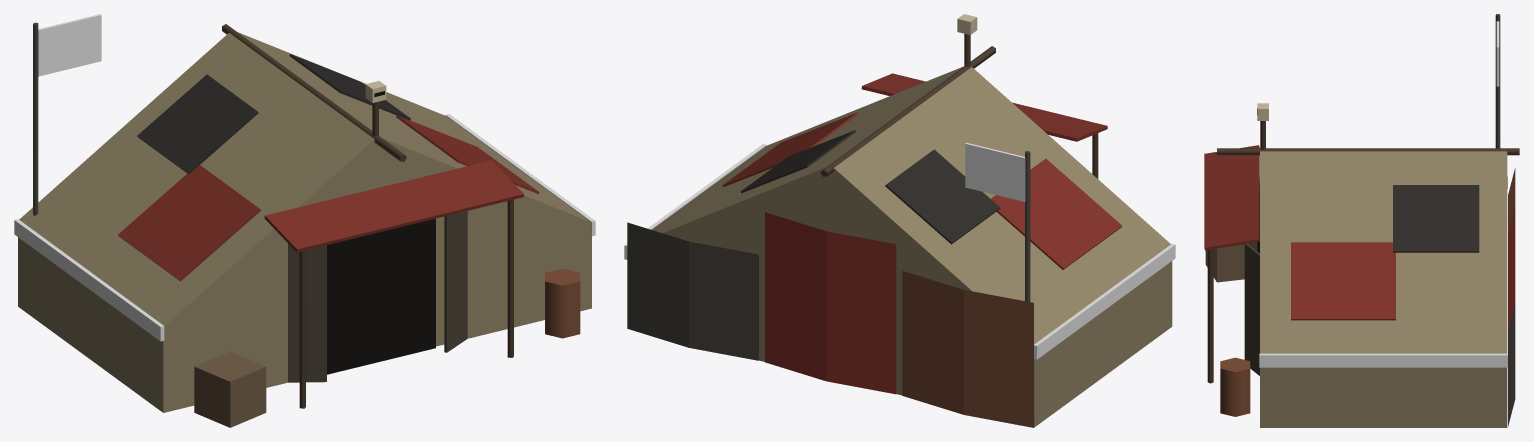
3 renders of one model, left to right at view 1: azimuth 30°, elevation 25°; view 2: azimuth 150°, elevation 25°; view 3: azimuth 270°, elevation 25°, orthographic. The views are drawn at different scales.
Parts seen in each view (by area): view 1: raider_building_tent; view 2: raider_building_tent; view 3: raider_building_tent.
Part boxes in pixels (x1,y1,x2,y2): raider_building_tent: (14, 14, 595, 427); raider_building_tent: (624, 14, 1175, 427); raider_building_tent: (1204, 14, 1519, 427).
Size of the model in its own units: 6.9 by 4.3 by 5.1.
